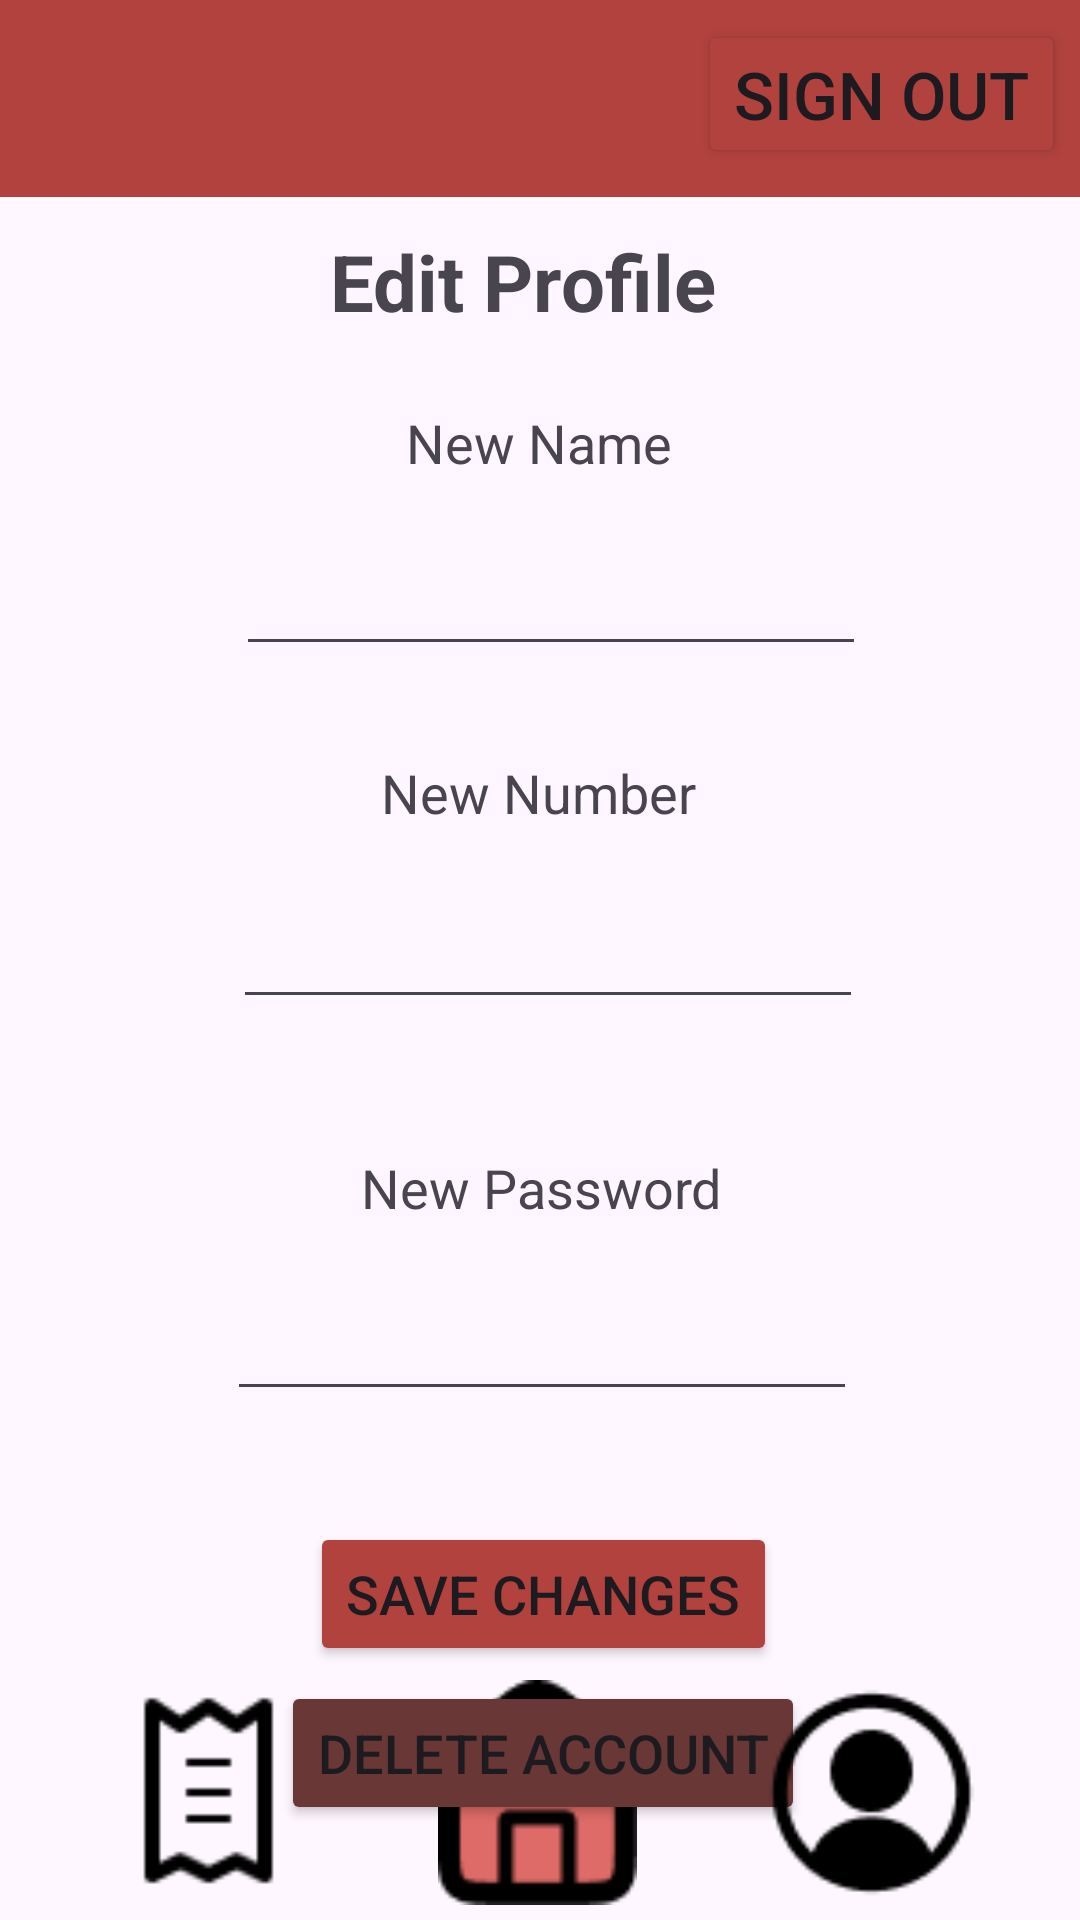

Icon click points for this 1080 x 1920 phone screenshot, format [x,y]:
user cicrle duotone line: [819,1792]
